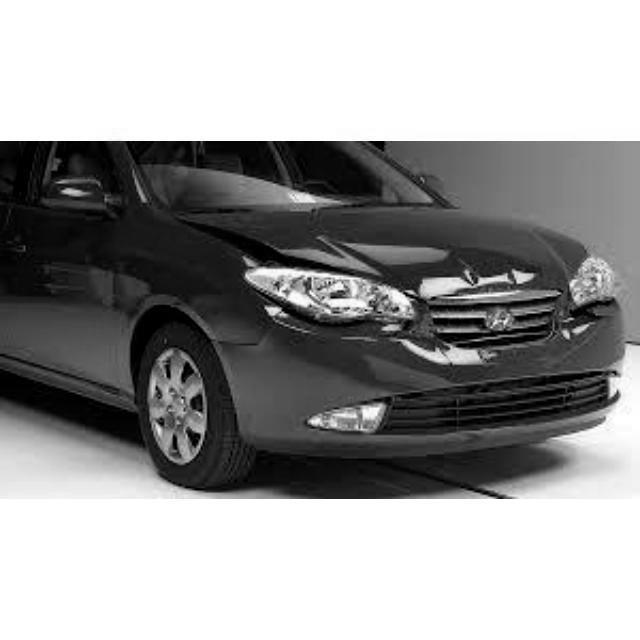bonnet-dent: (199, 203, 467, 316)
